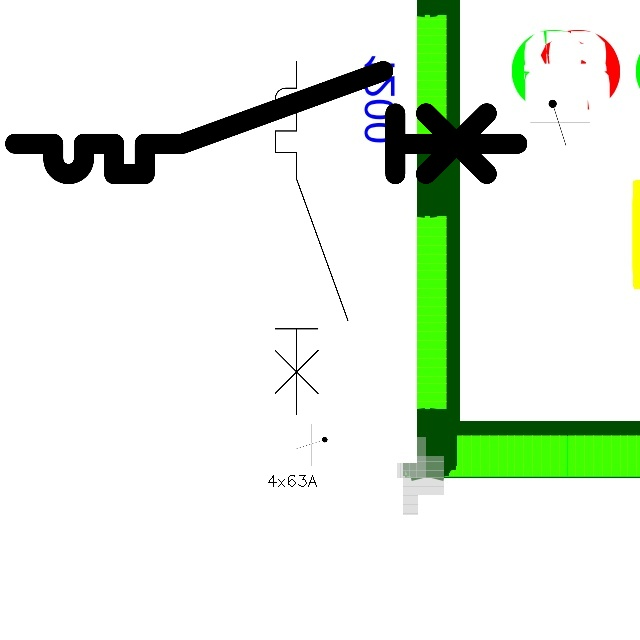interruptor_termomagnetico: (2, 58, 530, 187), (266, 52, 357, 424)
